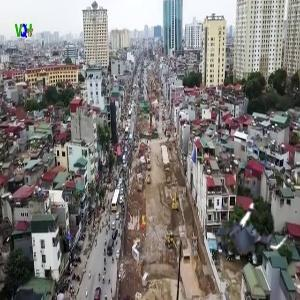drone: (212, 194, 290, 272)
